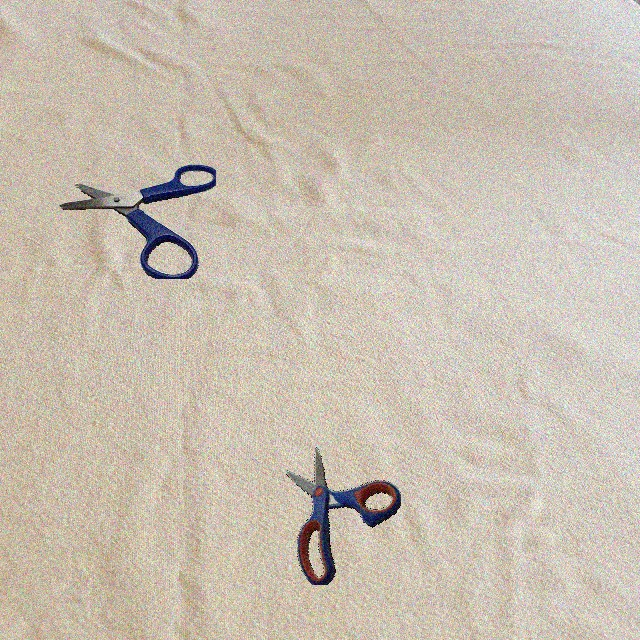scissors: (59, 164, 216, 279), (286, 447, 401, 585)
